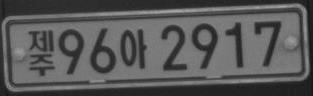1: (223, 21, 250, 67)
2: (161, 24, 187, 71)
6: (89, 27, 117, 74)
7: (254, 20, 282, 66)
9: (190, 22, 218, 69), (58, 28, 85, 75)
아: (119, 28, 148, 69)
제주_V: (27, 30, 56, 76)
